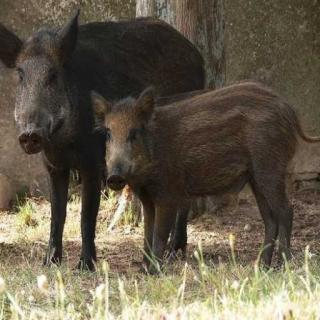Pig: (1, 1, 243, 228), (91, 74, 320, 266)
